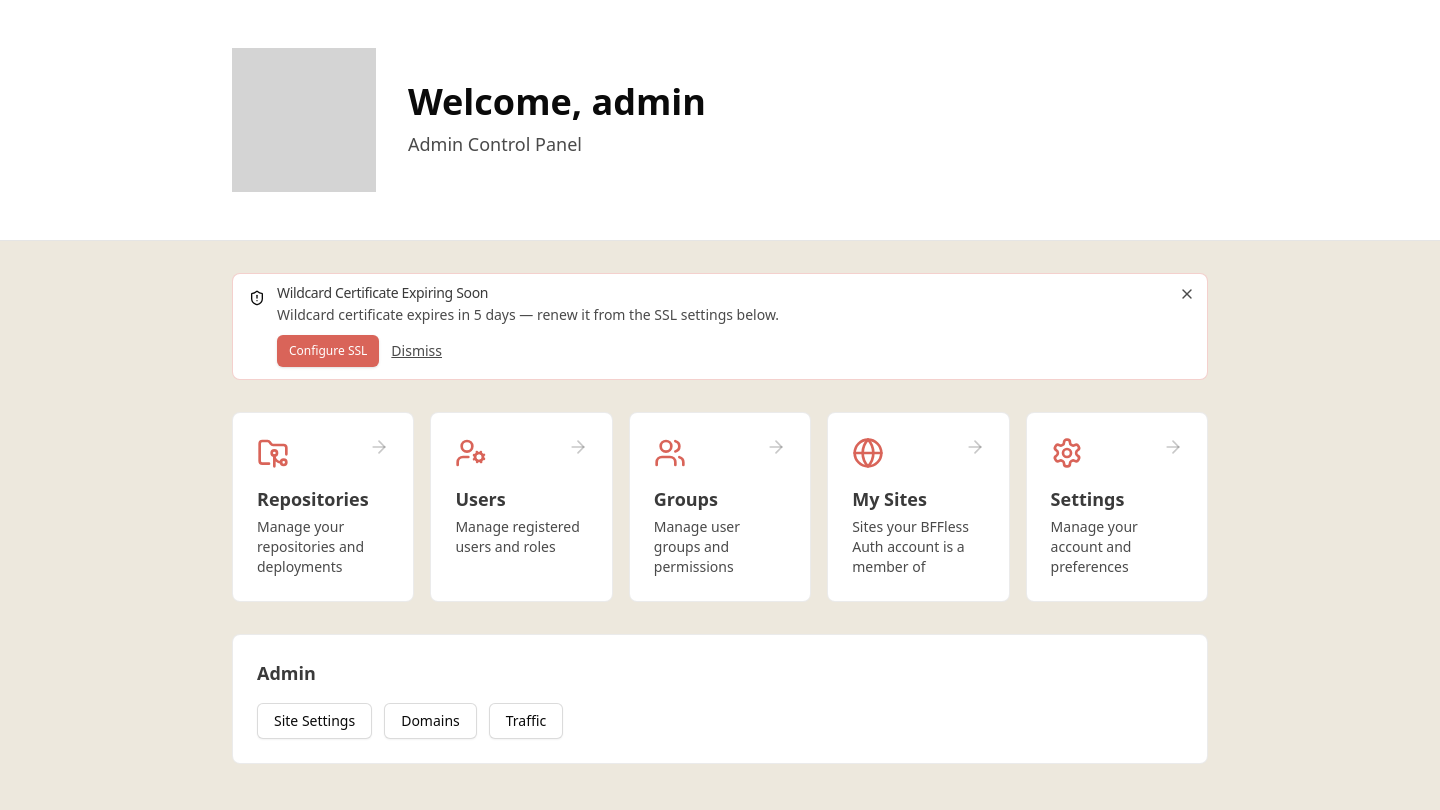
Scenario: HomePage — wildcard SSL banner › dismissing the expiring-cert banner hides it, keyed to that cert's expiresAt
The width and height of the screenshot is (1440, 810).
Expected: the heading "Wildcard Certificate Expiring Soon" is shown, [277,283,488,302]
Step 1. Click the button named "Dismiss" → (1173, 294), box [1151,286,1195,302]
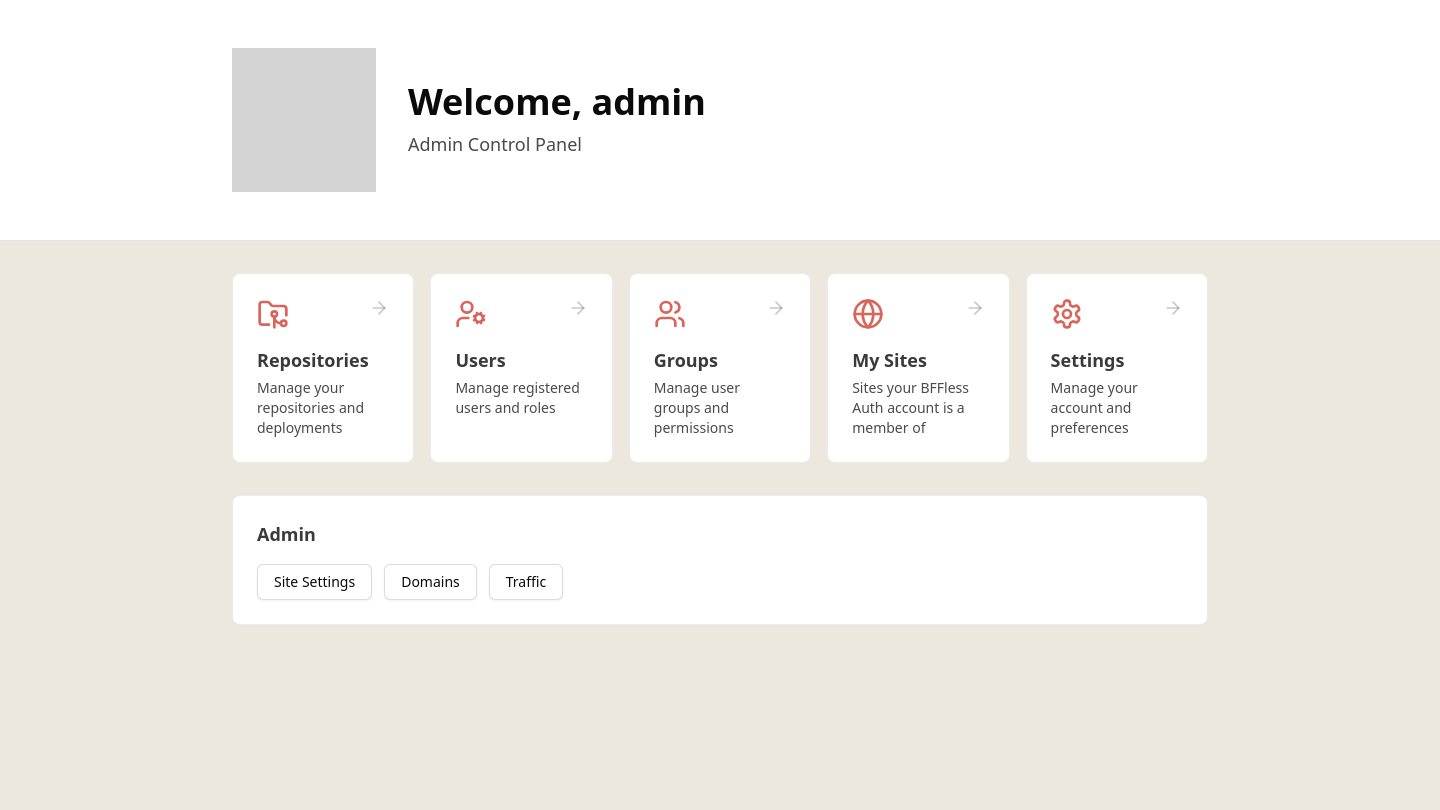
Expected: the heading "Wildcard Certificate Expiring Soon" is gone
